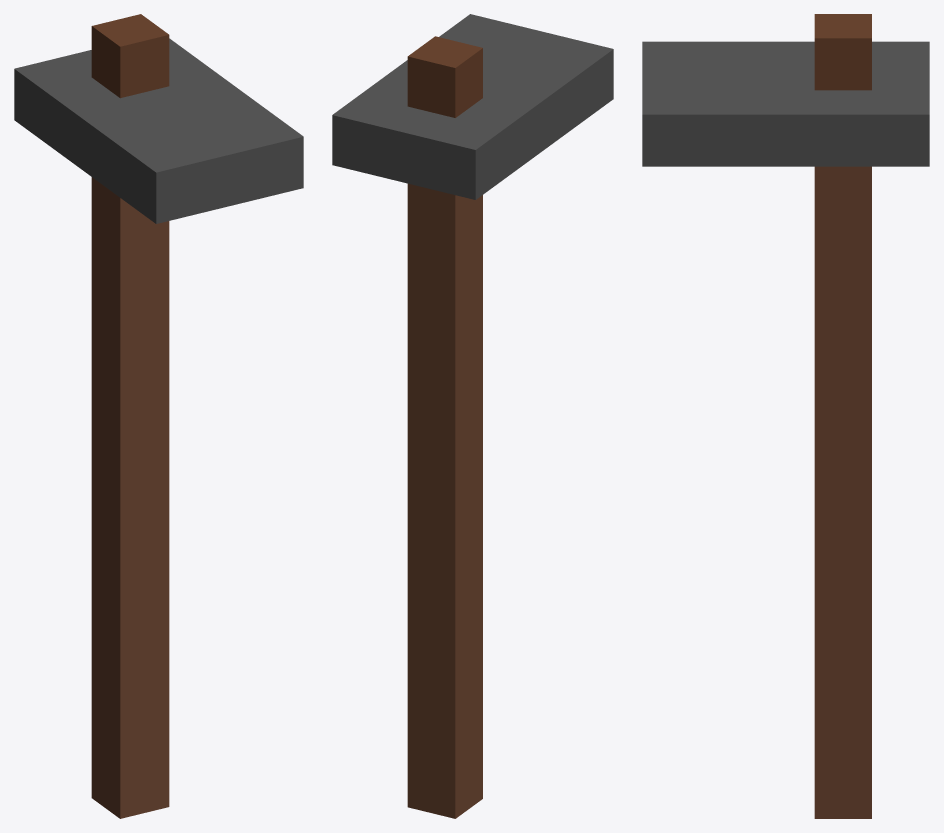
The model's file is hoe.glb.
3 views of the same model, side by side, from view 1: azimuth 30°, elevation 25°; view 2: azimuth 150°, elevation 25°; view 3: azimuth 270°, elevation 25° (orthographic). The views are drawn at different scales.
Parts seen in each view (by area): view 1: Untitled; view 2: Untitled; view 3: Untitled.
Part boxes in pixels (<box>): Untitled: <box>14,14,303,818</box>; Untitled: <box>332,14,613,818</box>; Untitled: <box>642,14,929,818</box>.
Bounding box in the file's own units: 0.3 × 1.5 × 0.5.
1 material, 1 textured.
